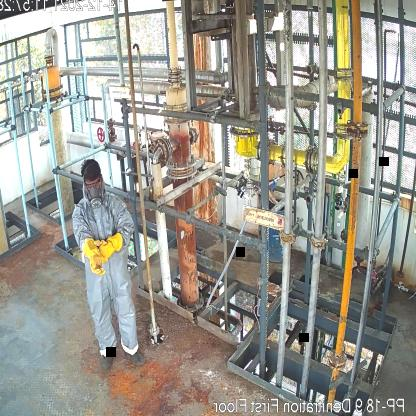goggles: (83, 177, 102, 188)
mask: (86, 186, 104, 208)
